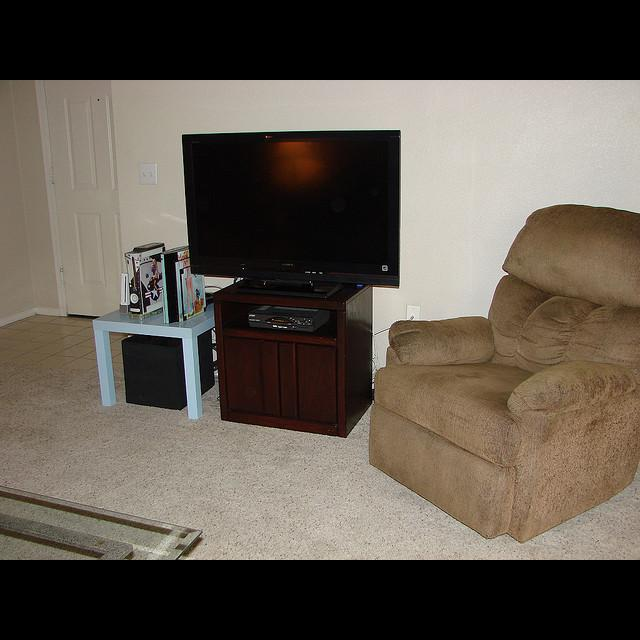Flat-Panel-TV: (181, 131, 401, 288)
